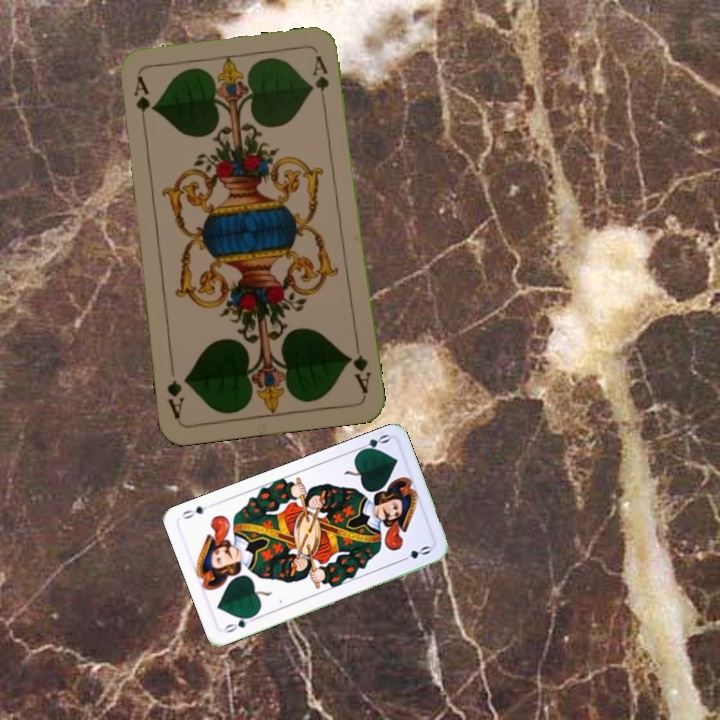GA: (344, 338, 374, 396), (130, 73, 153, 132)
GO: (352, 430, 392, 456), (220, 611, 259, 635)
